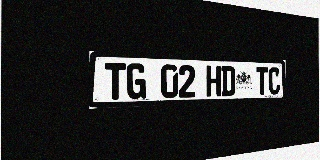0: (161, 64, 178, 98)
2: (179, 65, 195, 98)
C: (268, 67, 280, 95)
D: (221, 66, 235, 96)
G: (127, 63, 146, 99)
H: (206, 65, 221, 97)
T: (105, 62, 126, 100), (256, 67, 268, 95)
